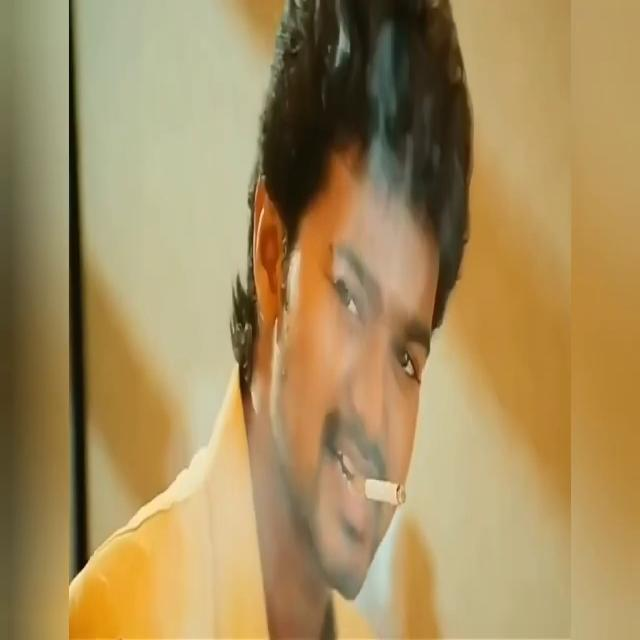smoking: (300, 326, 452, 572)
